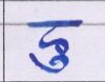u_matra: (29, 50, 71, 74)
